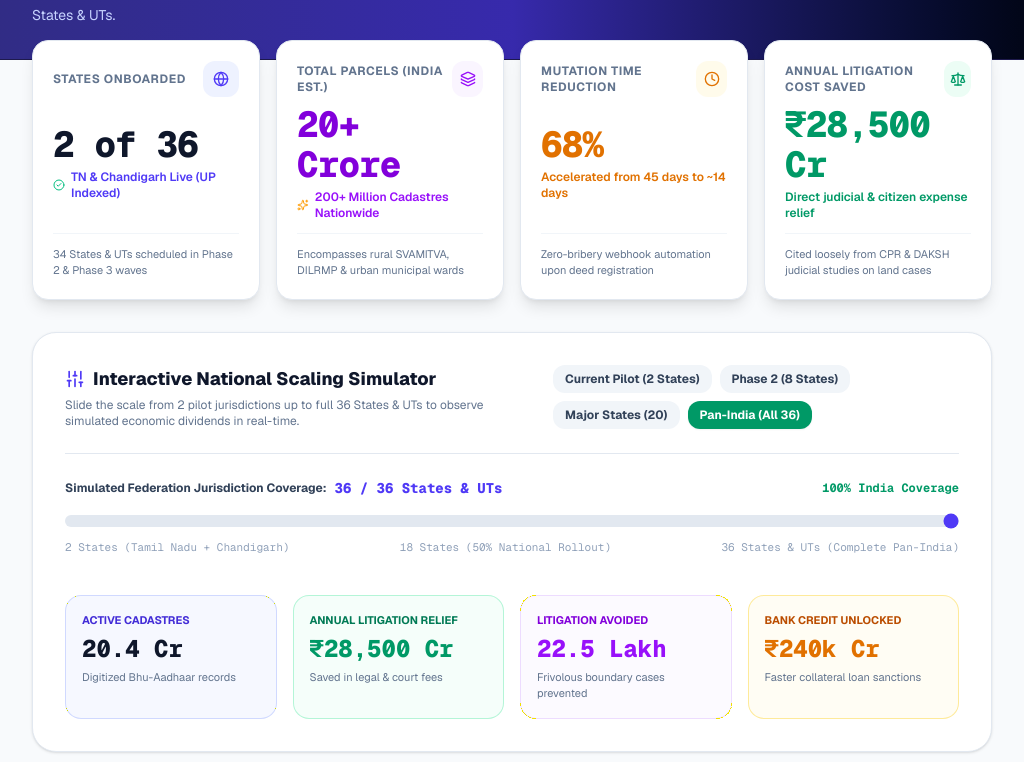
Test case: National Economic Impact & DPI Case Dashboard › renders the interactive scaling simulator with preset buttons and updates numbers
(page scrolled)
Check: the slider with test id "scaling-slider" is shown, box [65,514,959,526]
# Click Current Pilot (2 States) preset
Click the button with test id "preset-pilots-btn". click: (632, 378)
box: [553,364,712,392]
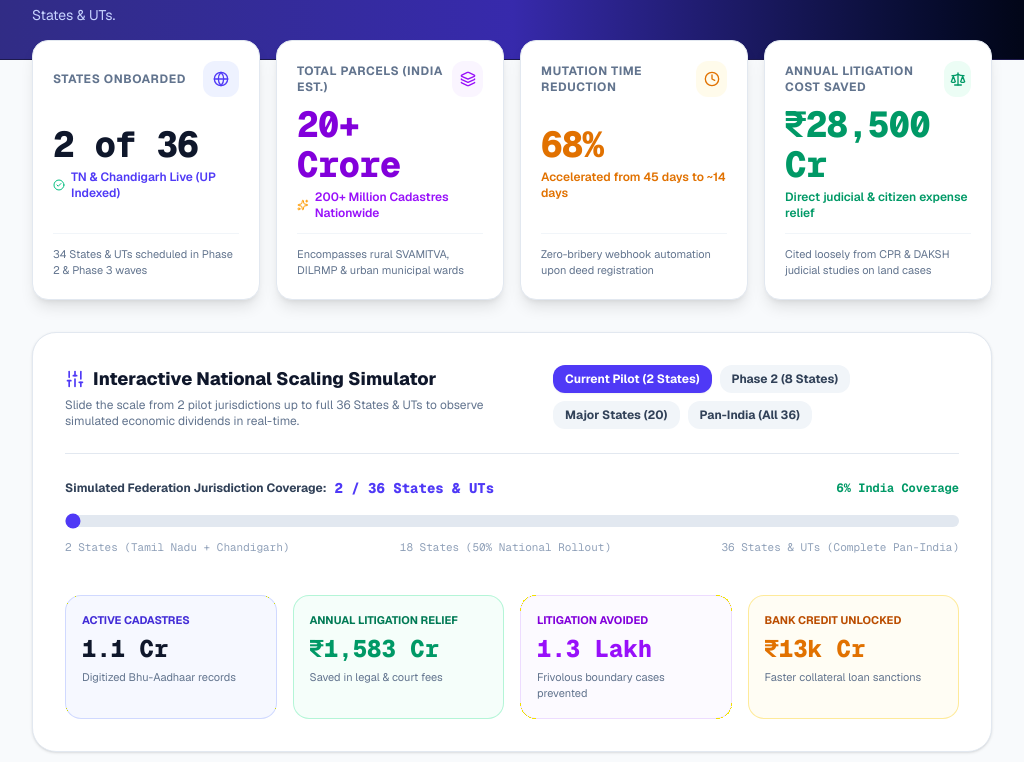
Check: the text "2 / 36 States & UTs" is shown, box [334,478,494,498]
Check: the text "6% India Coverage" is shown, box [837,480,959,496]
Check: the text "1.1 Cr" is shown, box [82,632,168,664]
# Click Pan-India (36 States) preset
Click the button with test id "preset-panindia-btn". click: (750, 414)
box: [688,400,812,428]
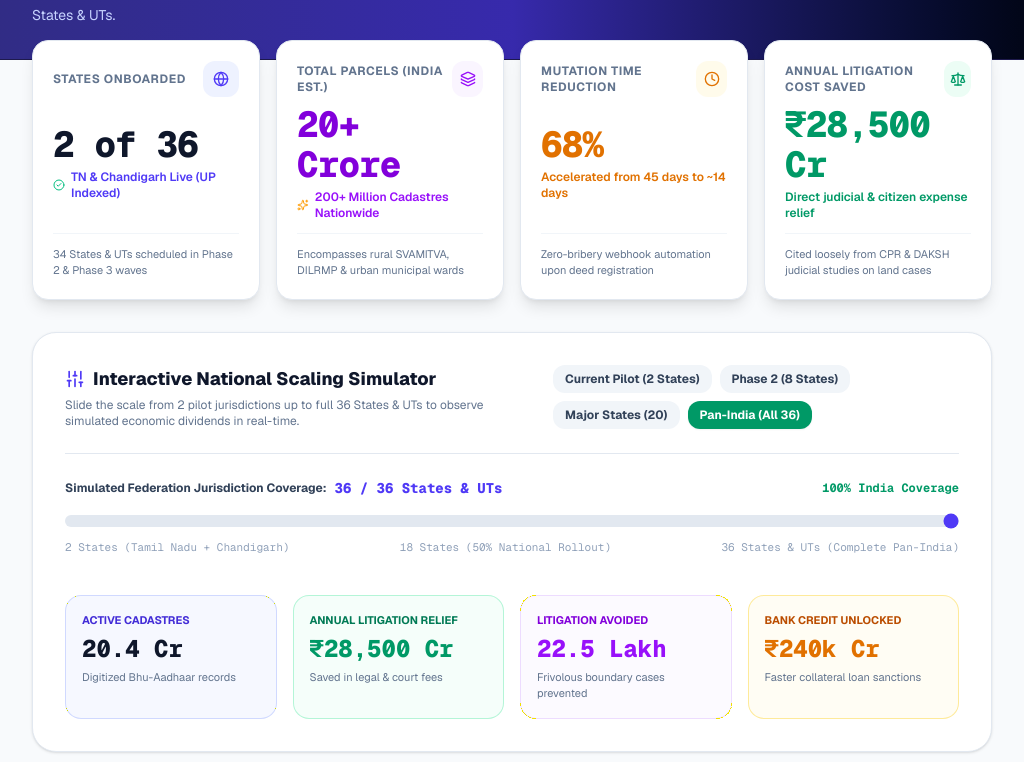
Check: the text "36 / 36 States & UTs" is shown, box [334,478,502,498]
Check: the text "100% India Coverage" is shown, box [822,480,959,496]
Check: the text "20.4 Cr" is shown, box [82,632,183,664]
# Click Phase 2 (8 States) preset
Click the button with test id "preset-phase2-btn". click: (785, 378)
box: [720,364,850,392]
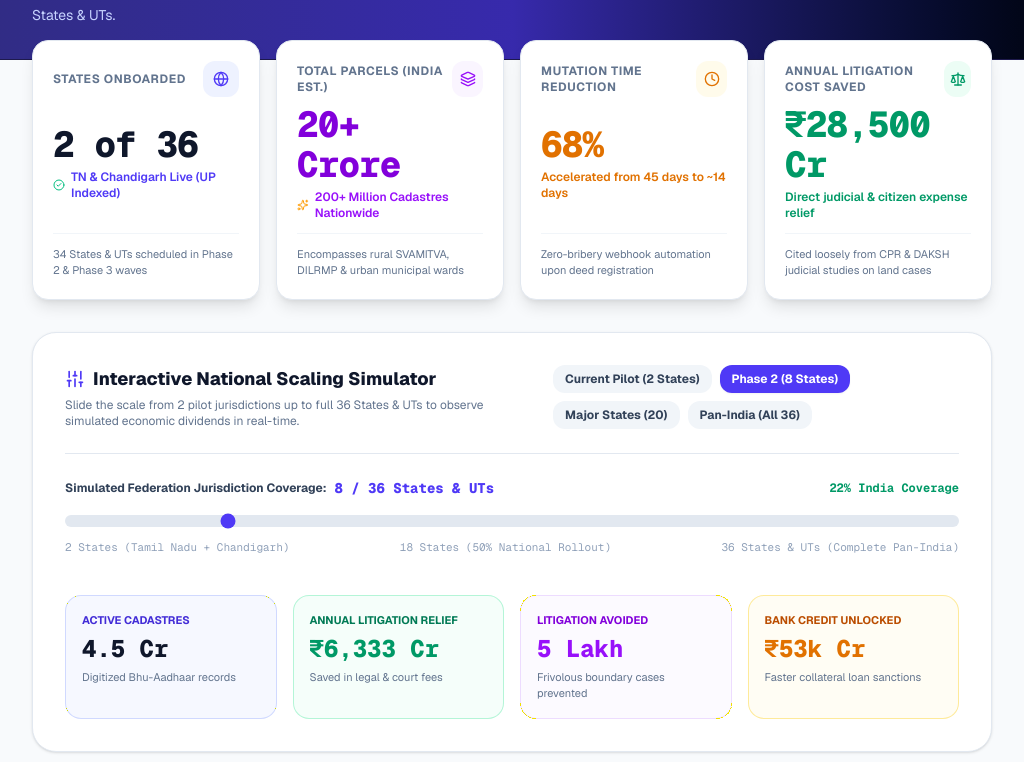
Check: the text "8 / 36 States & UTs" is shown, box [334,478,494,498]
